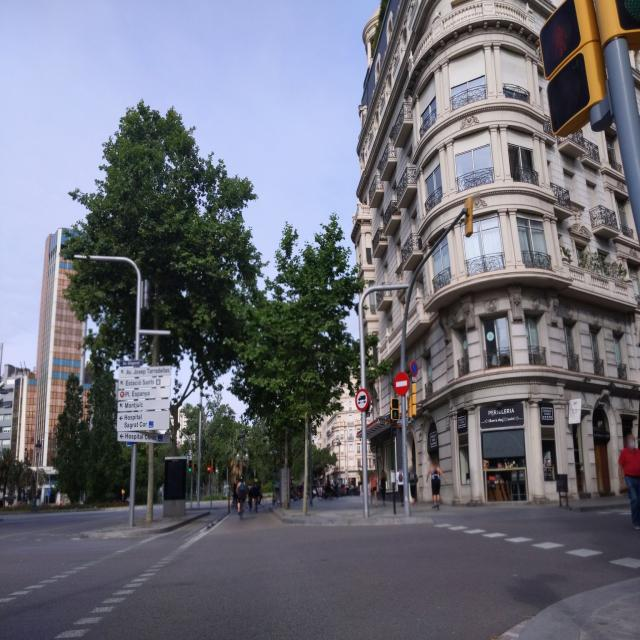bike: (237, 492, 247, 523), (254, 493, 260, 513)
